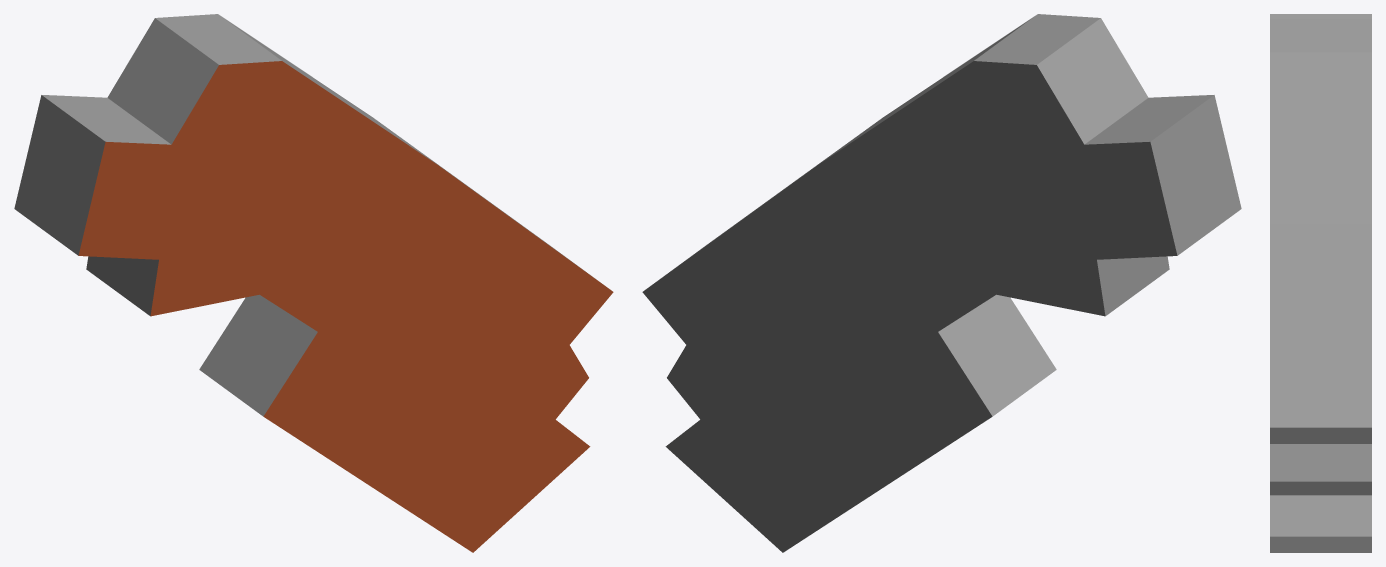
Rendered from construction_5168_assumed_A_Casa_h6m.obj.
The picture shows the model from 3 angles, left to right: view 1: azimuth 30°, elevation 25°; view 2: azimuth 150°, elevation 25°; view 3: azimuth 270°, elevation 25°; orthographic projection. The views are drawn at different scales.
Parts seen in each view (by area): view 1: construction_5168_assumed_A_Casa; view 2: construction_5168_assumed_A_Casa; view 3: construction_5168_assumed_A_Casa.
Boxes of the visible parts, bbox=[...] form: construction_5168_assumed_A_Casa: bbox=[14, 14, 613, 552]; construction_5168_assumed_A_Casa: bbox=[642, 14, 1241, 552]; construction_5168_assumed_A_Casa: bbox=[1270, 14, 1371, 552].
Bounding box in the file's own units: 28.88 × 28.36 × 6.
